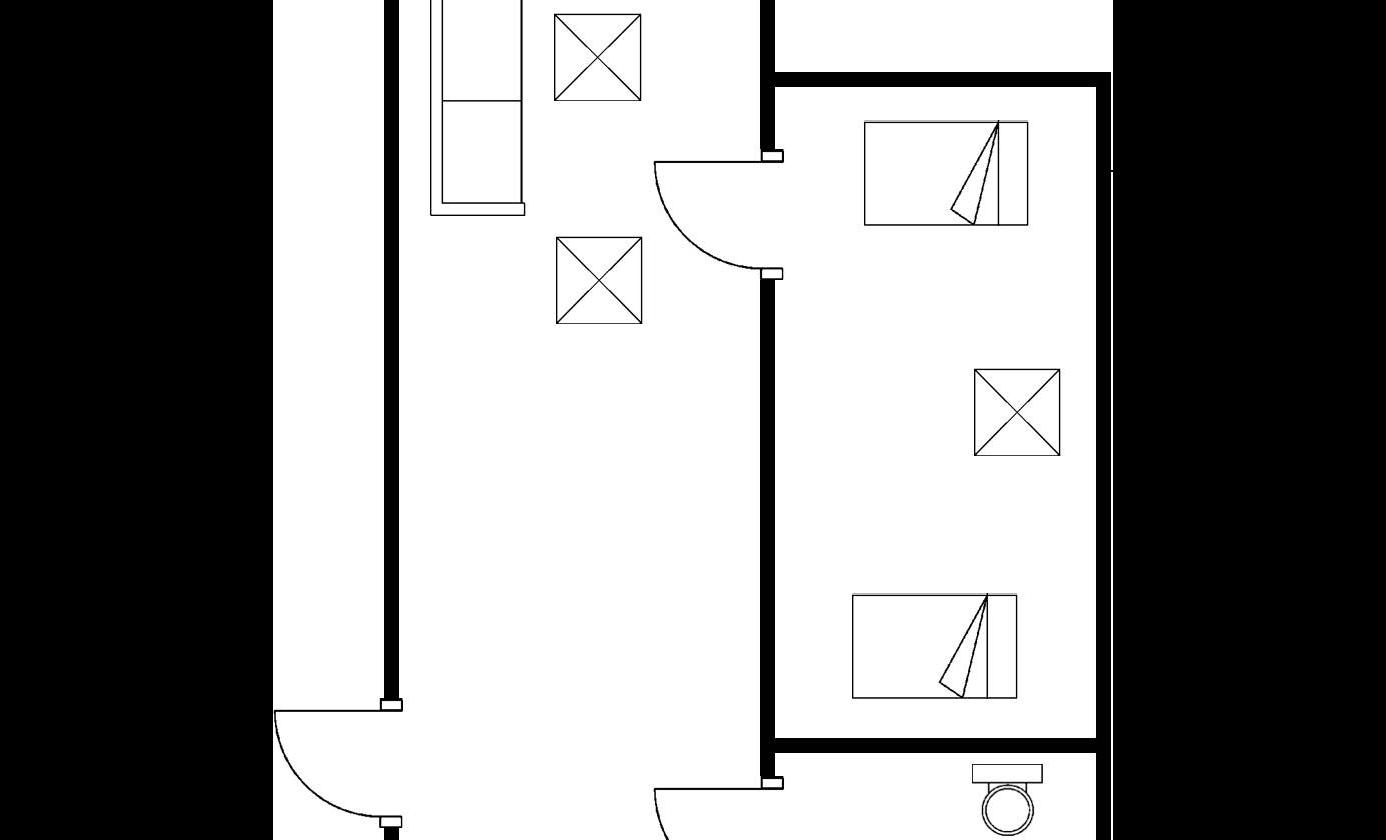bed: (845, 587, 1022, 700), (858, 115, 1031, 229)
sofa: (421, 0, 534, 220)
toilet: (964, 758, 1050, 838)
